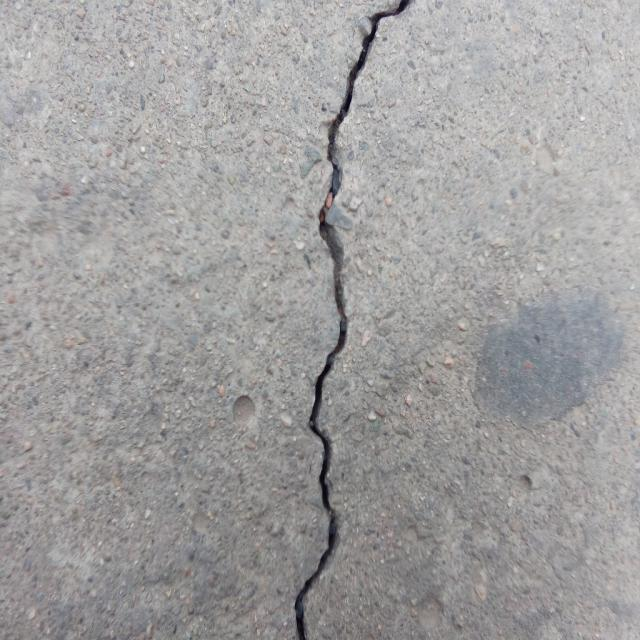cracks: (277, 3, 428, 640)
